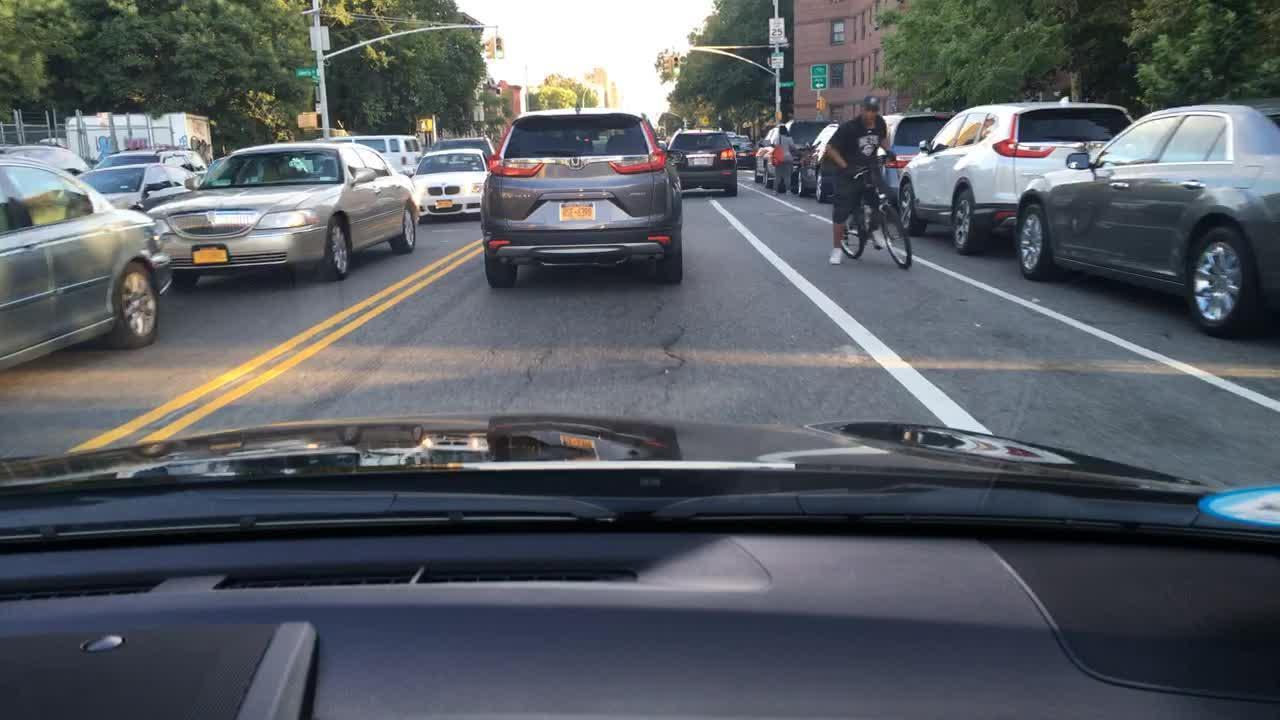Honda: (563, 151, 591, 176)
